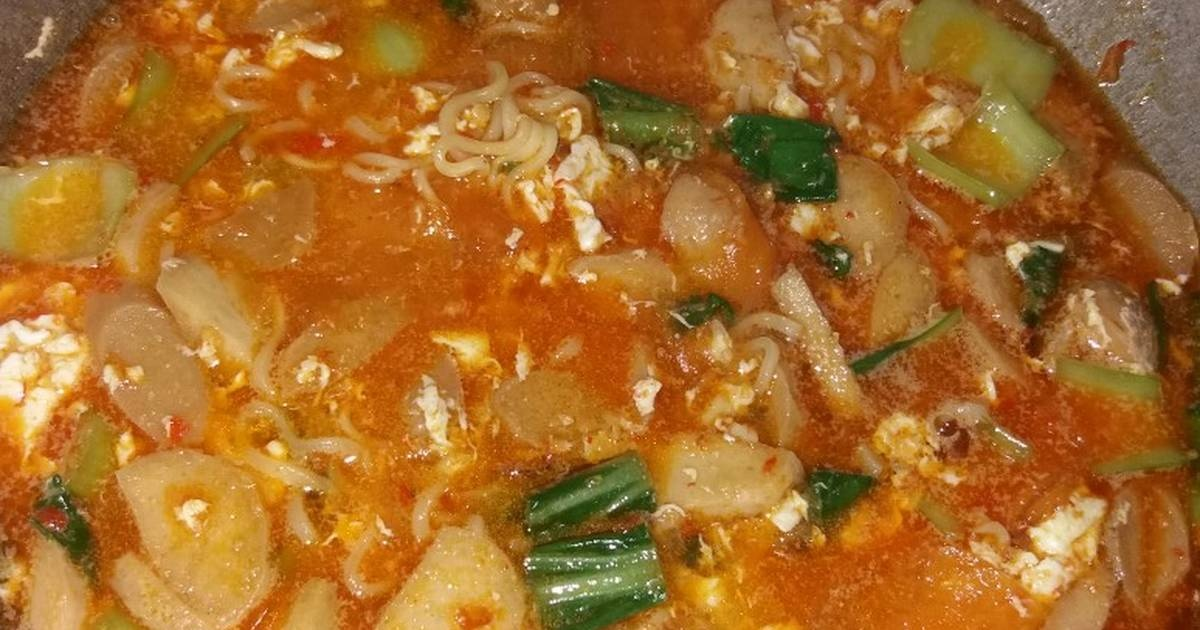seblak: (2, 8, 1200, 615)
